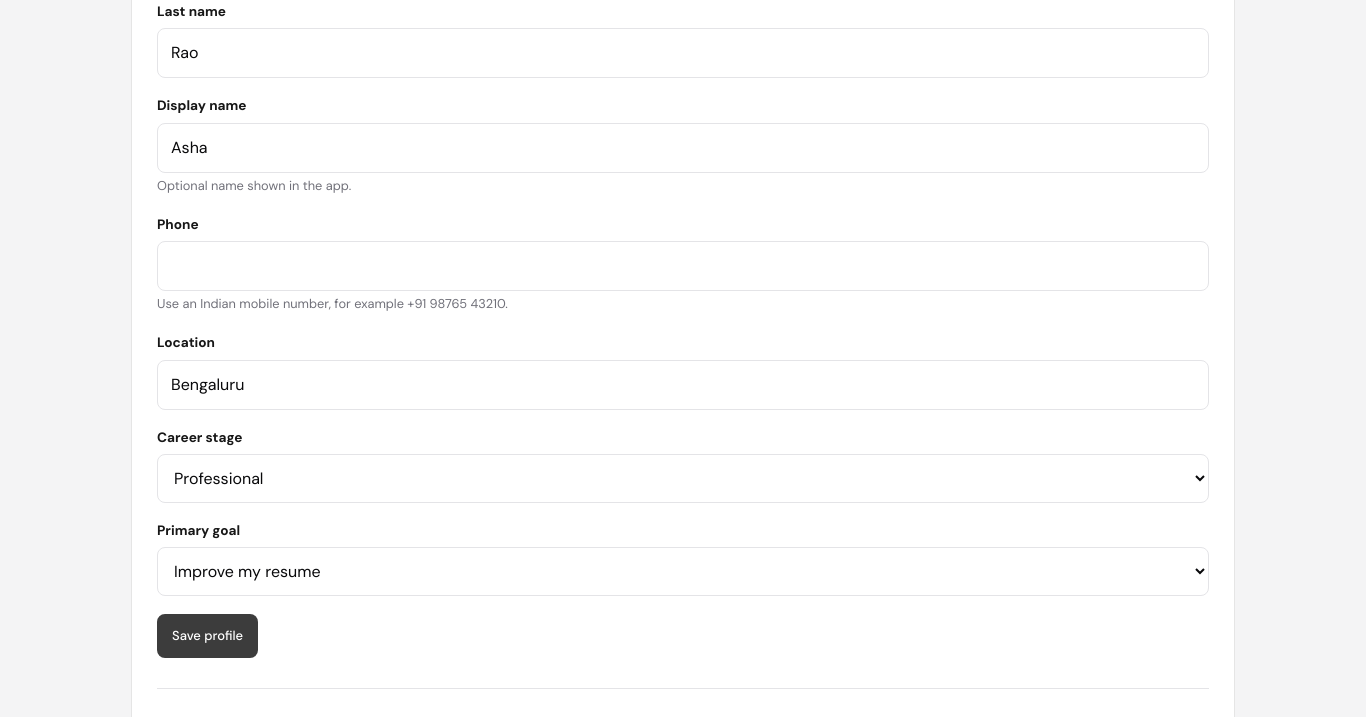
Test: ProfilePanel › updates the structured profile contract
(page scrolled)
Replace the text in the field labelled "Location" with "Mysuru". click: (683, 385)
box: [157,360,1209,410]
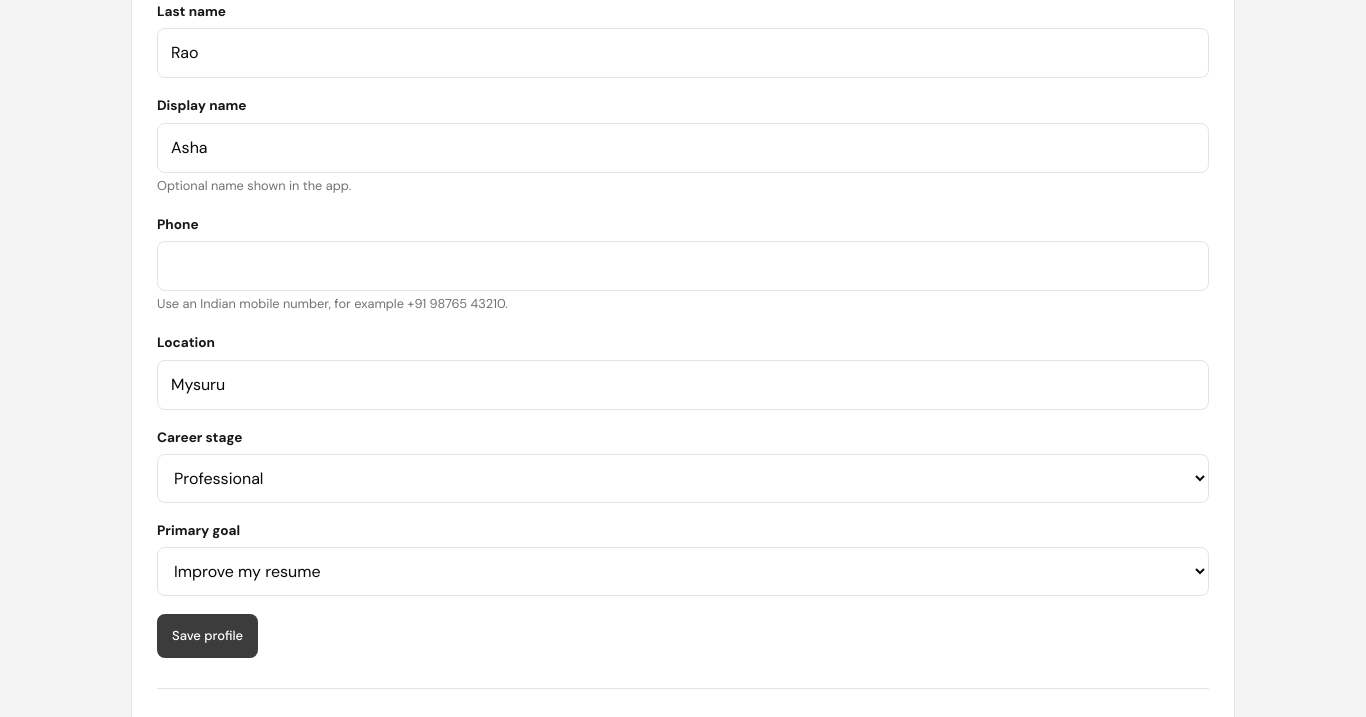
Click the button "Save profile". click: (208, 636)
box: [157,614,258,658]
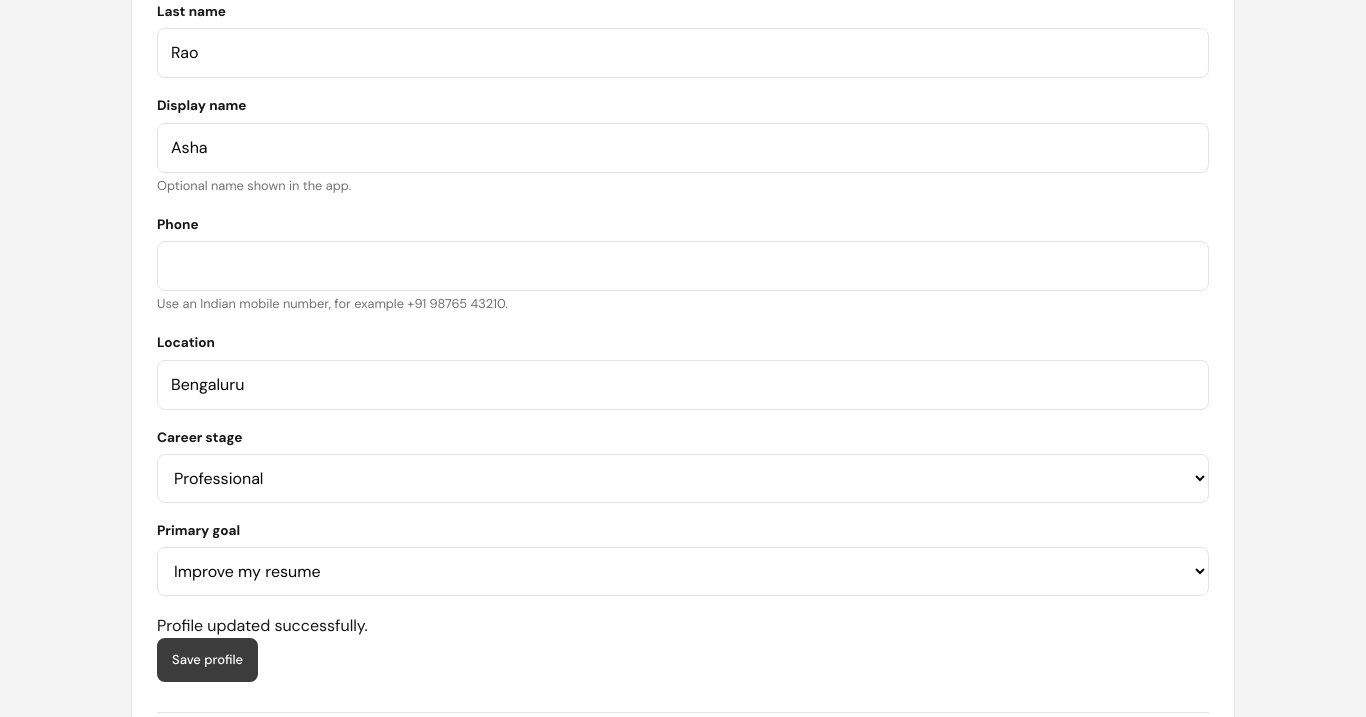
Expected: the text "Profile updated successfully." is shown, [157,615,368,636]
